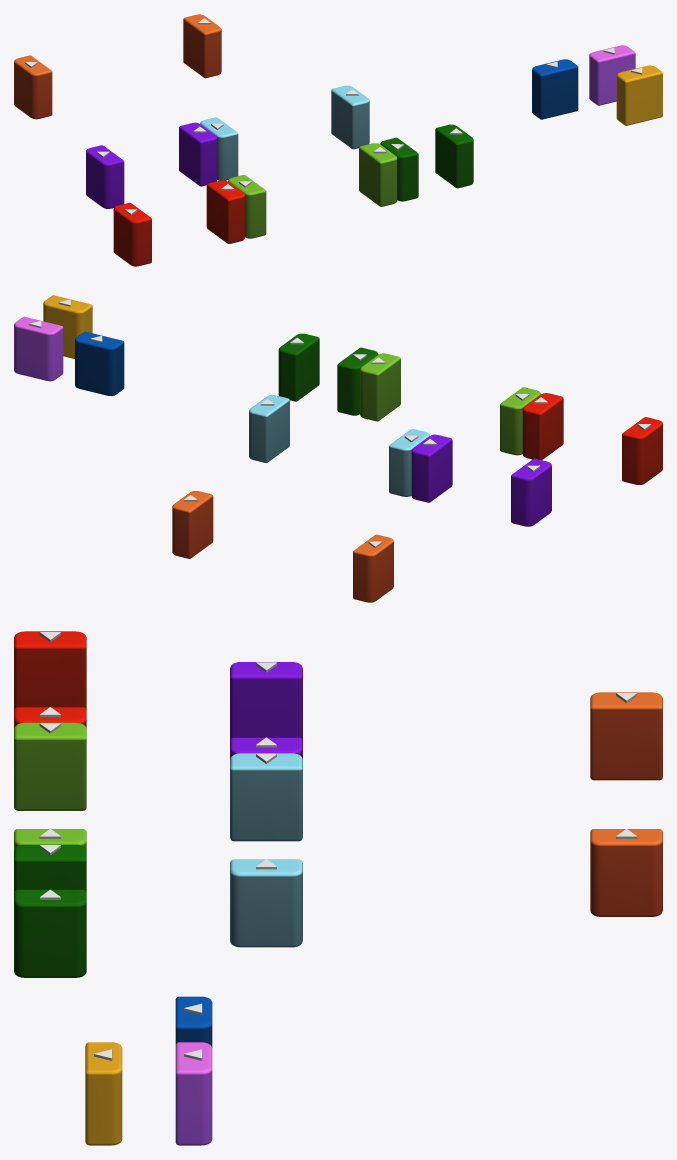
The model's file is Blast.fbx.
3 renders of one model, top to bottom at view 1: azimuth 30°, elevation 25°; view 2: azimuth 150°, elevation 25°; view 3: azimuth 270°, elevation 25°, orthographic. The views are drawn at different scales.
Visible parts, largest first — view 1: Blast_DarkBlue, Blast_Yellow, Blast_Red, Blast_Orange, Blast_DarkGreen, Blast_Green, Blast_Orange1, Blast_Red1, Blast_Purple, Blast_LightBlue, Blast_Purple1, Blast_Pink (+3 smaller); view 2: Blast_Pink, Blast_DarkBlue, Blast_Purple, Blast_Orange, Blast_Red, Blast_DarkGreen, Blast_Green, Blast_Red1, Blast_Purple1, Blast_Orange1, Blast_LightBlue, Blast_Yellow (+3 smaller); view 3: Blast_DarkGreen, Blast_LightBlue1, Blast_Orange1, Blast_LightBlue, Blast_Green1, Blast_Orange, Blast_Red1, Blast_Purple1, Blast_Pink, Blast_Yellow, Blast_DarkGreen1, Blast_DarkBlue (+3 smaller).
Part boxes in pixels (<box>): Blast_DarkBlue: <box>532,59,578,119</box>; Blast_Yellow: <box>616,65,662,125</box>; Blast_Red: <box>206,180,245,243</box>; Blast_Orange: <box>183,14,221,78</box>; Blast_DarkGreen: <box>435,124,473,188</box>; Blast_Green: <box>359,143,397,206</box>; Blast_Orange1: <box>14,55,52,119</box>; Blast_Red1: <box>113,202,151,266</box>; Blast_Purple: <box>179,122,217,186</box>; Blast_LightBlue: <box>331,85,369,149</box>; Blast_Purple1: <box>86,145,124,208</box>; Blast_Pink: <box>589,45,635,105</box>; Blast_Pink: <box>14,316,63,381</box>; Blast_DarkBlue: <box>75,331,124,395</box>; Blast_Purple: <box>411,434,452,502</box>; Blast_Orange: <box>172,491,213,558</box>; Blast_Red: <box>522,393,563,460</box>; Blast_DarkGreen: <box>278,333,319,401</box>; Blast_Green: <box>360,353,400,421</box>; Blast_Red1: <box>622,417,662,484</box>; Blast_Purple1: <box>511,458,551,526</box>; Blast_Orange1: <box>353,534,393,602</box>; Blast_LightBlue: <box>249,395,289,462</box>; Blast_Yellow: <box>43,295,92,358</box>; Blast_DarkGreen: <box>14,889,86,977</box>; Blast_LightBlue1: <box>230,753,302,841</box>; Blast_Orange1: <box>590,692,662,780</box>; Blast_LightBlue: <box>230,859,302,947</box>; Blast_Green1: <box>14,722,86,810</box>; Blast_Orange: <box>590,828,662,916</box>; Blast_Red1: <box>14,631,86,709</box>; Blast_Purple1: <box>230,662,302,740</box>; Blast_Pink: <box>175,1042,212,1145</box>; Blast_Yellow: <box>85,1042,122,1145</box>; Blast_DarkGreen1: <box>14,844,86,892</box>; Blast_DarkBlue: <box>175,996,212,1047</box>.
Bounding box in the file's own units: 14.51 × 1.19 × 9.01.
1 material, 1 textured.
